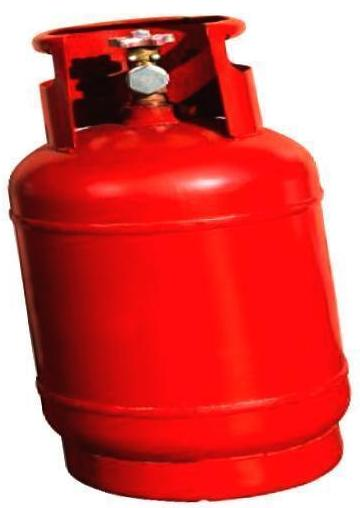cylinder: (1, 1, 360, 508)
